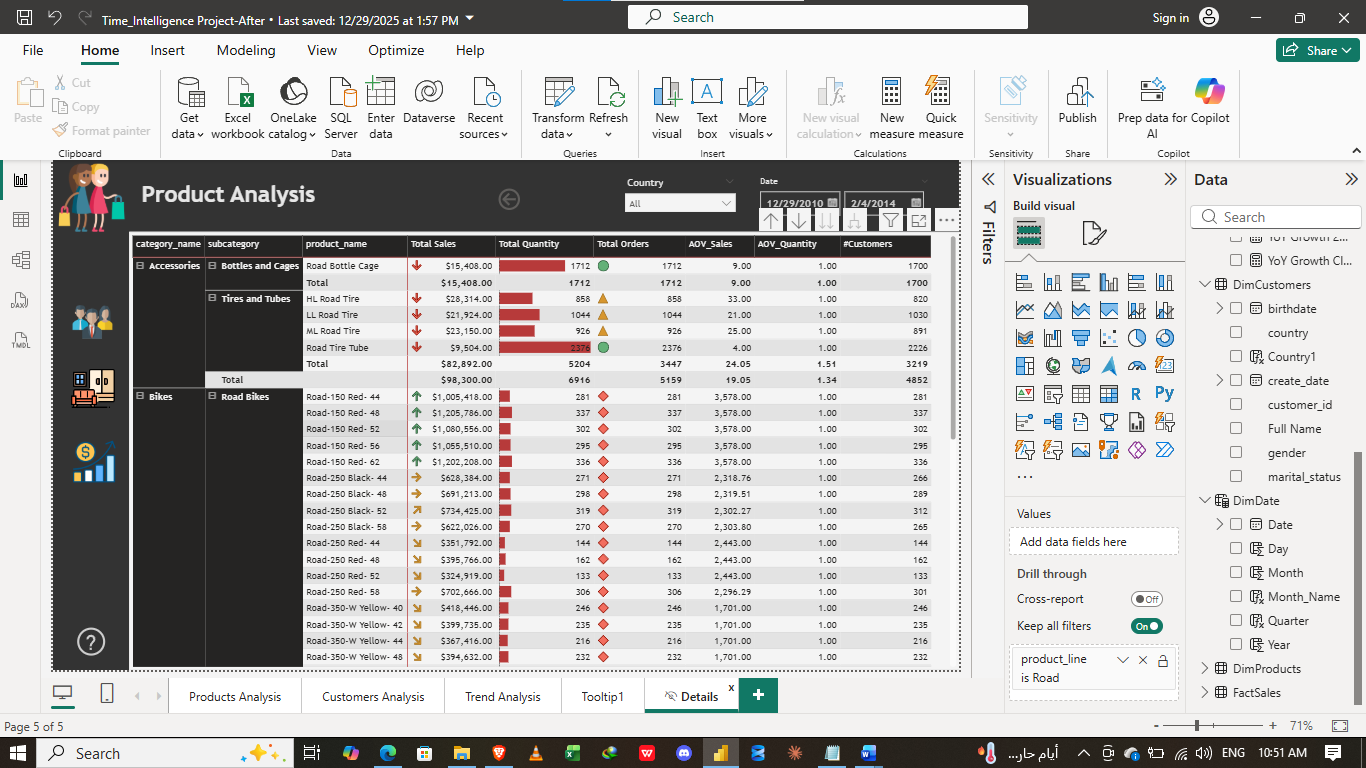

Layout of this report page (visuals, bound fields, positions):
{"tool":"powerbi","page":{"name":"Details","canvas":[1280,720],"ordinal":4},"visuals":[{"type":"group","id":"g1","title":"Navigator","box":[0,0,107.6,720.2],"z":0},{"type":"shape","box":[0,0,107.6,720.2],"z":0,"group":"g1"},{"type":"shape","box":[107.6,0,1172.7,101.5],"z":0,"group":"g2"},{"type":"group","id":"g2","title":"Header","box":[107.6,0,1172.7,101.5],"z":1000},{"type":"slicer","fields":{"Values":["DimDate.Date"]},"box":[985.6,18.6,262.9,75.8],"z":1000,"group":"g2"},{"type":"image","box":[19.6,198.6,72.1,58.7],"z":1000,"group":"g1"},{"type":"slicer","fields":{"Values":["DimCustomers.country"]},"box":[798.5,18.6,176.1,75.8],"z":2000,"group":"g2"},{"type":"pivotTable","fields":{"Rows":["DimProducts.category_name","DimProducts.subcategory","DimProducts.product_name"],"Values":["DAX Measures.Total Sales","DAX Measures.Total Quantity","DAX Measures.Total Orders","DAX Measures.AOV_Sales","DAX Measures.AOV_Quantity","DAX Measures.#Customers"]},"box":[107.6,101.5,1172.7,618.8],"z":2000},{"type":"image","box":[28.1,386.9,59.9,78.3],"z":2000,"group":"g1"},{"type":"actionButton","box":[623.6,35.5,100.3,40.4],"z":3000},{"type":"image","box":[25.7,287.9,62.4,67.3],"z":3000,"group":"g1"},{"type":"image","box":[7.3,3.7,95.4,97.8],"z":4000,"group":"g1"},{"type":"textbox","box":[119.8,24.5,418.2,62.4],"z":4000,"group":"g2"},{"type":"actionButton","box":[28.1,651.8,51.4,55],"z":5000,"group":"g1"}]}

Visuals, with their boxes on the page's 1280x720 design canvas (x1, y1, x2, y2). These are canvas units, not pixel positions in the 1366x768 screenshot, which may show the page scaled, cropped or inside an application window:
"Navigator" group: left=0, top=0, right=108, bottom=720
shape: left=0, top=0, right=108, bottom=720
shape: left=108, top=0, right=1280, bottom=102
"Header" group: left=108, top=0, right=1280, bottom=102
slicer - DimDate.Date: left=986, top=19, right=1248, bottom=94
image: left=20, top=199, right=92, bottom=257
slicer - DimCustomers.country: left=798, top=19, right=975, bottom=94
pivotTable - DimProducts.category_name x DimProducts.subcategory: left=108, top=102, right=1280, bottom=720
image: left=28, top=387, right=88, bottom=465
actionButton: left=624, top=36, right=724, bottom=76
image: left=26, top=288, right=88, bottom=355
image: left=7, top=4, right=103, bottom=102
textbox: left=120, top=24, right=538, bottom=87
actionButton: left=28, top=652, right=80, bottom=707
